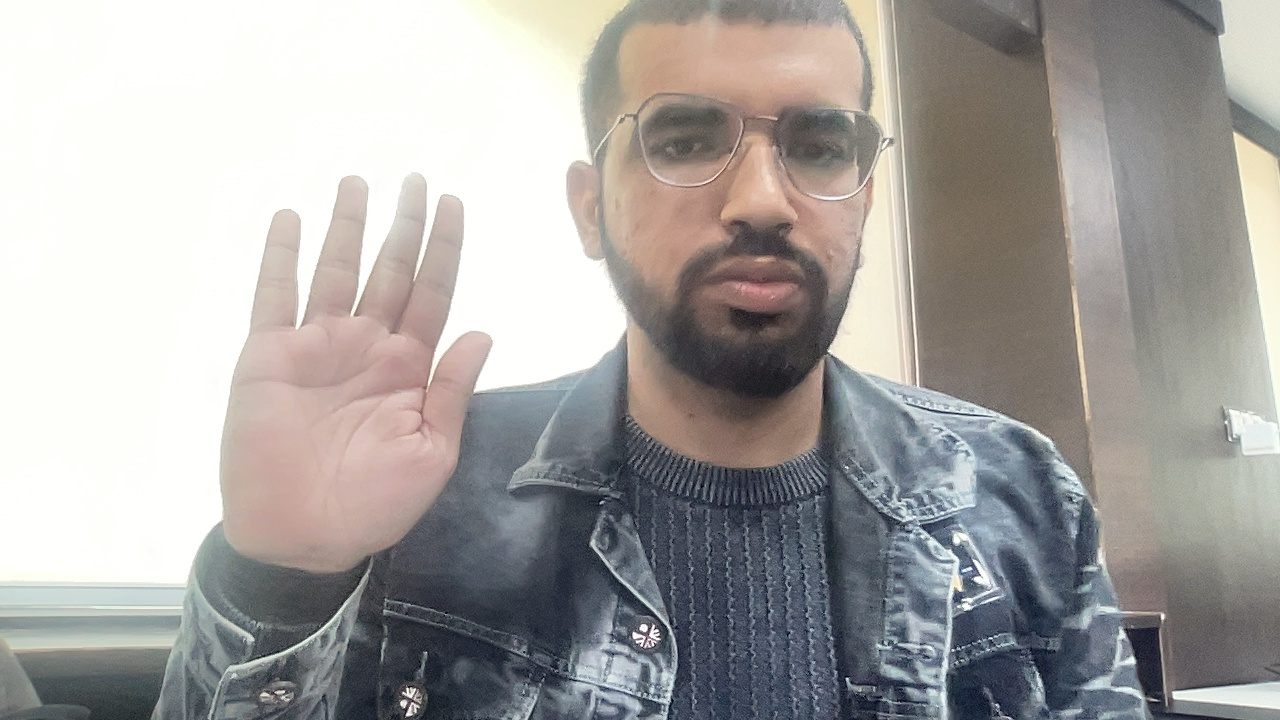Hello: (182, 142, 499, 591)
